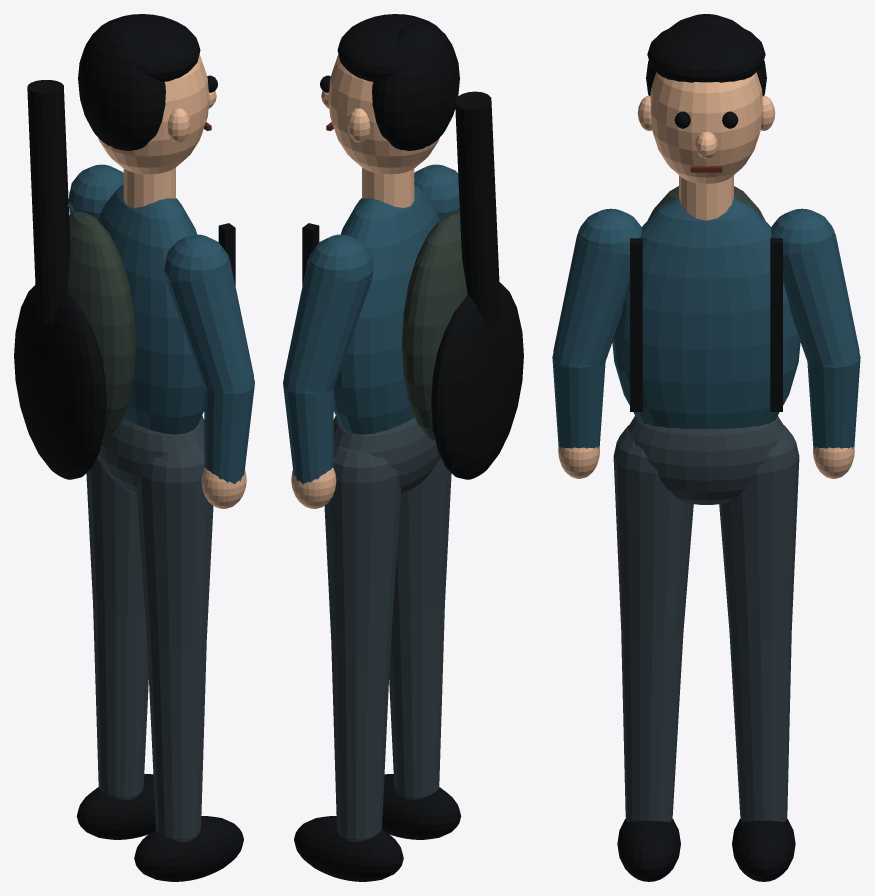
Rendered from person_17.dae.
The picture shows the model from 3 angles, left to right: view 1: azimuth 30°, elevation 25°; view 2: azimuth 150°, elevation 25°; view 3: azimuth 270°, elevation 25°; orthographic projection.
Parts seen in each view (by area): view 1: part0node, part1node, part2node, part5node, part3node; view 2: part0node, part1node, part2node, part5node, part3node; view 3: part2node, part0node, part1node, part3node.
Boxes of the visible parts, <box> form: part0node: <box>86,416,213,842</box>; part1node: <box>14,14,243,881</box>; part2node: <box>68,164,254,483</box>; part5node: <box>67,211,135,441</box>; part3node: <box>98,55,246,508</box>; part0node: <box>324,416,451,842</box>; part1node: <box>294,14,523,881</box>; part2node: <box>283,164,459,483</box>; part5node: <box>402,211,467,441</box>; part3node: <box>291,55,439,508</box>; part2node: <box>552,197,860,448</box>; part0node: <box>613,416,799,821</box>; part1node: <box>617,14,795,881</box>; part3node: <box>558,72,854,478</box>.
Bounding box in the file's own units: 0.033 × 0.05 × 0.15.
